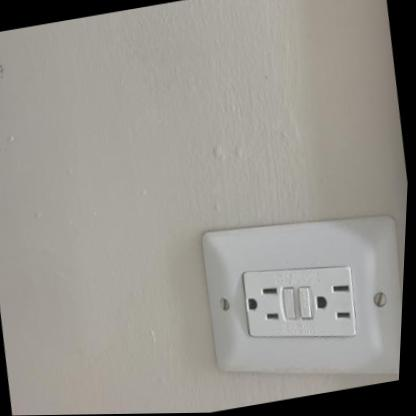OUTLET: (197, 208, 406, 379)
